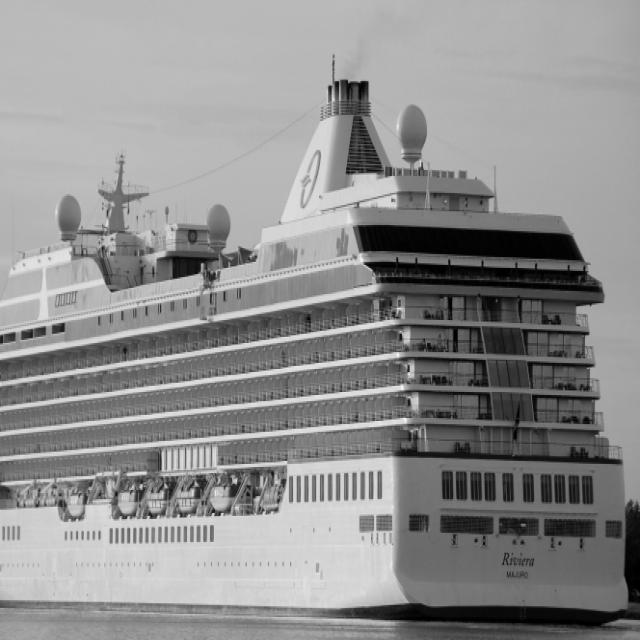cruises: (1, 40, 640, 634)
